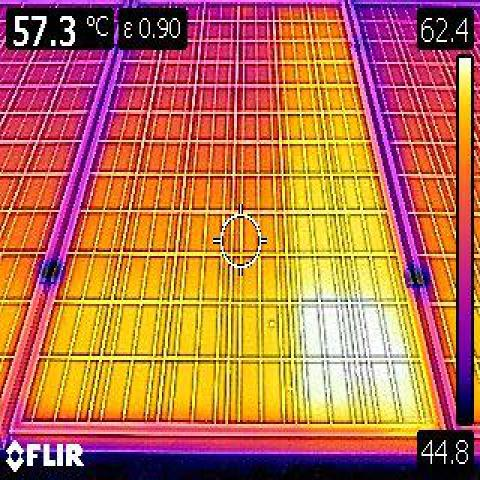fault: (276, 4, 430, 421)
